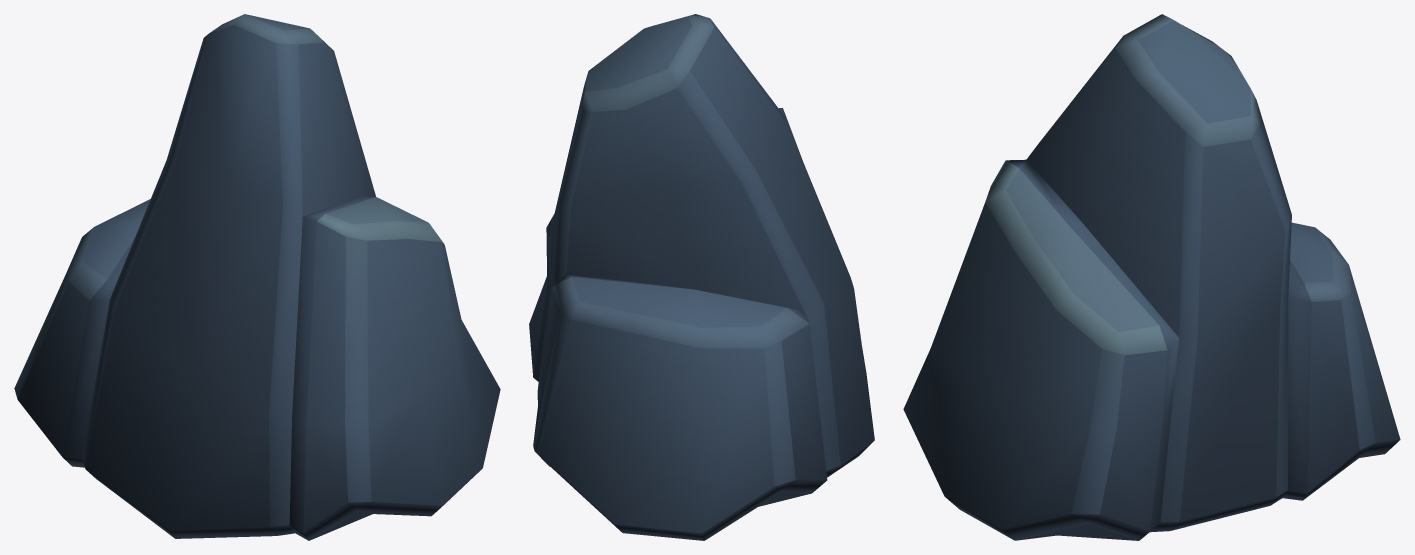
File: rock_020.fbx
The picture shows the model from 3 angles, left to right: view 1: azimuth 30°, elevation 25°; view 2: azimuth 150°, elevation 25°; view 3: azimuth 270°, elevation 25°; orthographic projection. The views are drawn at different scales.
Parts seen in each view (by area): view 1: rock_020; view 2: rock_020; view 3: rock_020.
Boxes of the visible parts, box(x1,y1,x2,y2) form: rock_020: box(14, 14, 500, 540); rock_020: box(529, 14, 874, 540); rock_020: box(903, 14, 1400, 540).
Bounding box in the file's own units: 249 × 302 × 283.
Materials: 1 (1 with a texture image).
